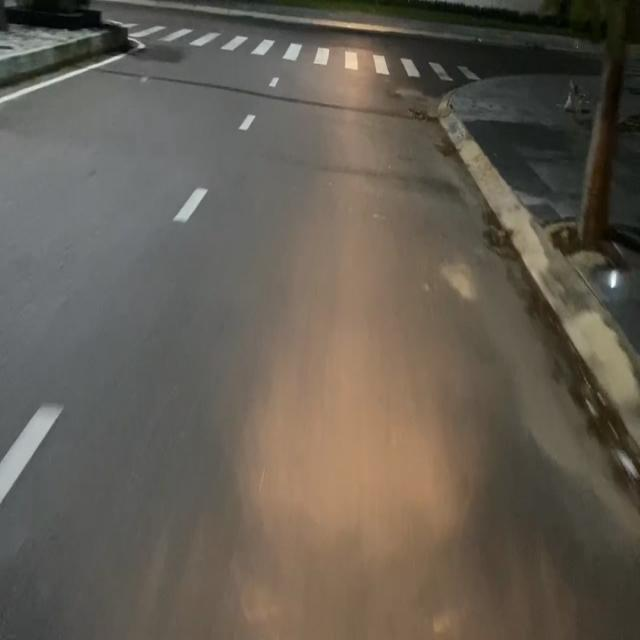walk-crossing: (122, 9, 481, 93)
